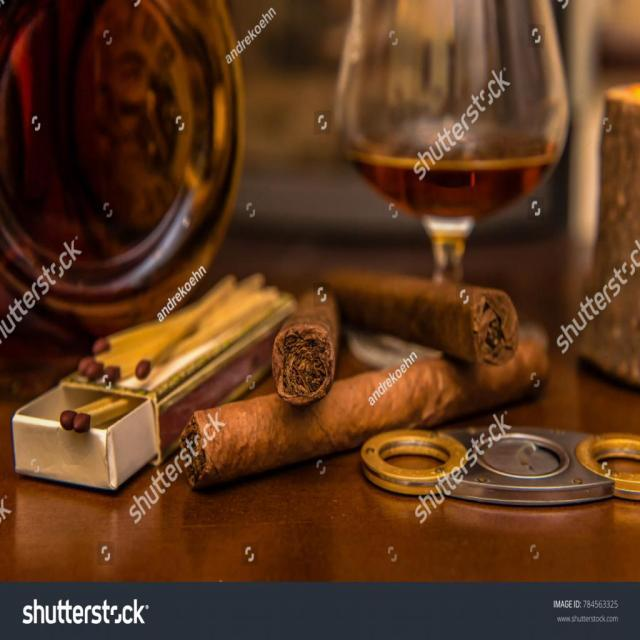smoking: (144, 222, 559, 495)
